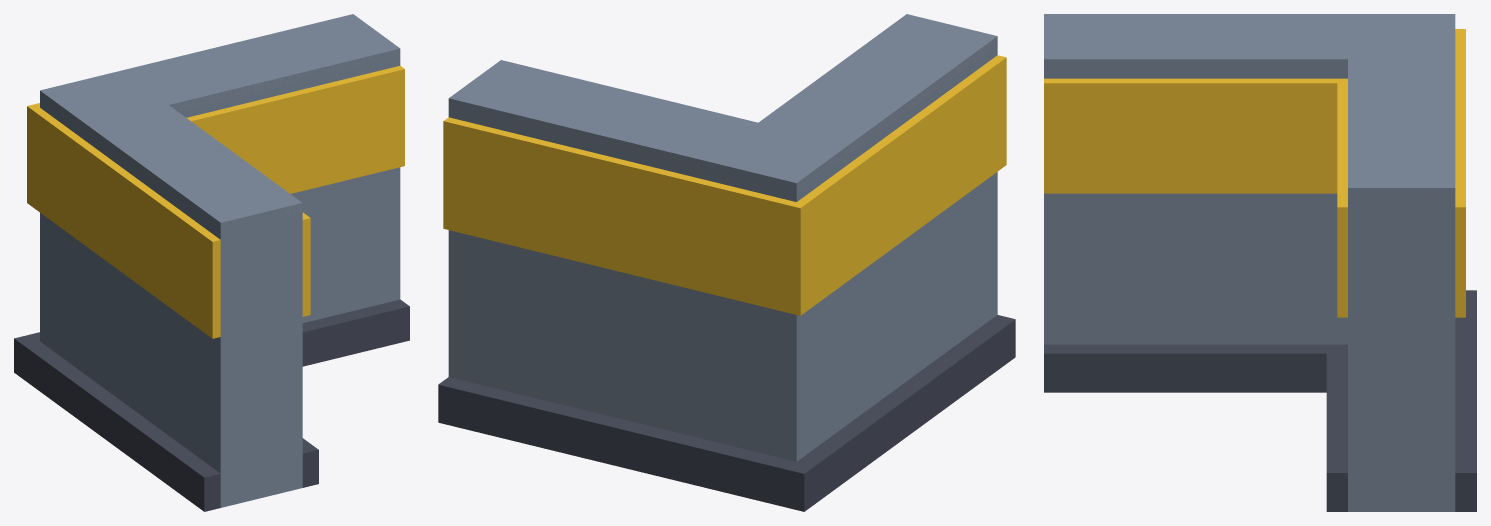
File: partition-elbow.glb
The picture shows the model from 3 angles, left to right: view 1: azimuth 30°, elevation 25°; view 2: azimuth 150°, elevation 25°; view 3: azimuth 270°, elevation 25°; orthographic projection. The views are drawn at different scales.
Visible parts, largest first — view 1: partition-elbow; view 2: partition-elbow; view 3: partition-elbow.
Boxes of the visible parts, x1=… form: partition-elbow: x1=14, y1=14, x2=409, y2=511; partition-elbow: x1=438, y1=14, x2=1015, y2=511; partition-elbow: x1=1044, y1=14, x2=1476, y2=511.
Bounding box in the file's own units: 0.605 × 0.5 × 0.605.
Materials: 1 (1 with a texture image).
